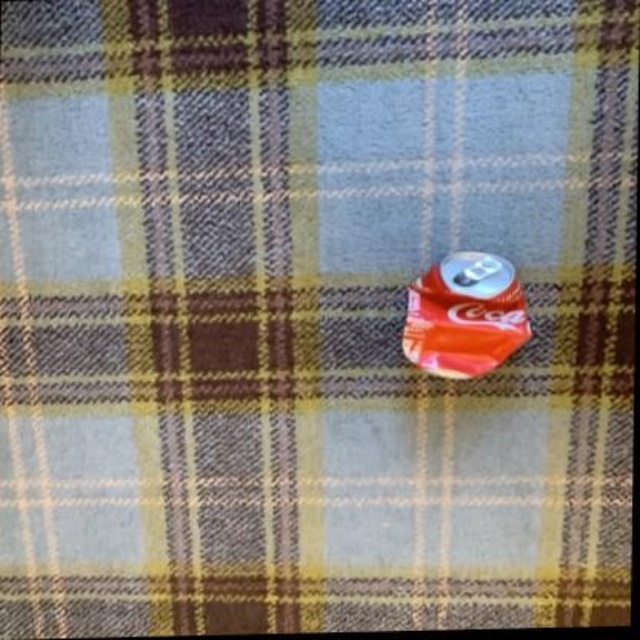trash: (403, 251, 531, 377)
